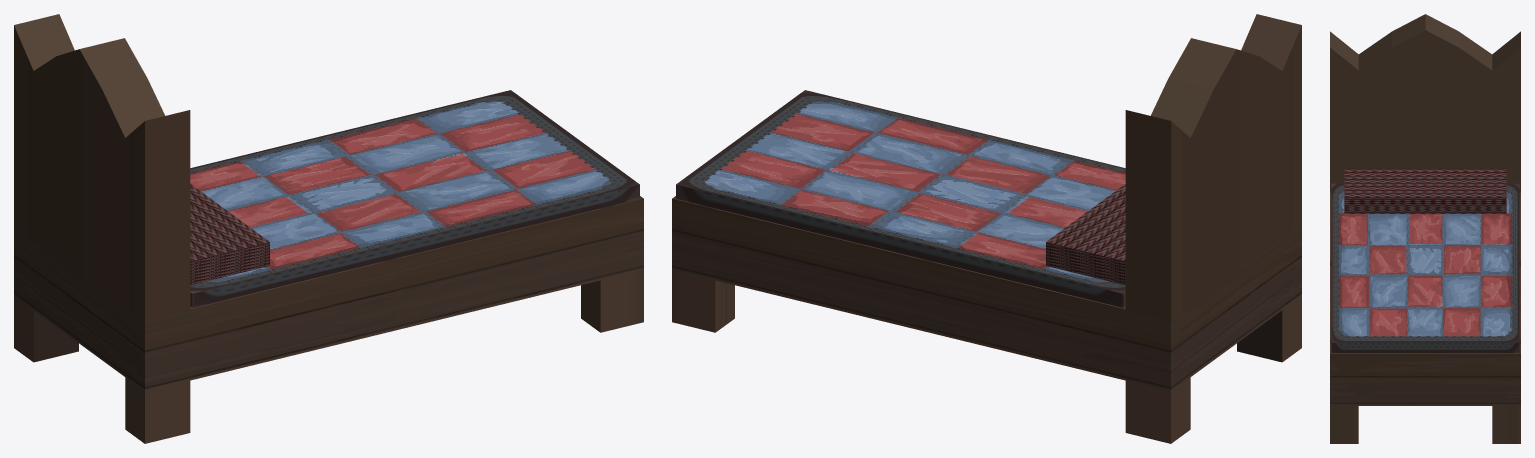
Rendered from Bed.fbx.
The picture shows the model from 3 angles, left to right: view 1: azimuth 30°, elevation 25°; view 2: azimuth 150°, elevation 25°; view 3: azimuth 270°, elevation 25°; orthographic projection. The views are drawn at different scales.
Visible parts, largest first — view 1: Cube, Cube.001; view 2: Cube, Cube.001; view 3: Cube, Cube.001.
Part boxes in pixels (box(x1,y1,x2,y2)): Cube: box(14, 14, 643, 443); Cube.001: box(190, 184, 269, 284); Cube: box(672, 14, 1301, 443); Cube.001: box(1046, 184, 1125, 284); Cube: box(1330, 14, 1520, 443); Cube.001: box(1344, 168, 1506, 213).
Size of the model in its own units: 220 by 146 by 100.
Materials: 3 (3 with a texture image).
